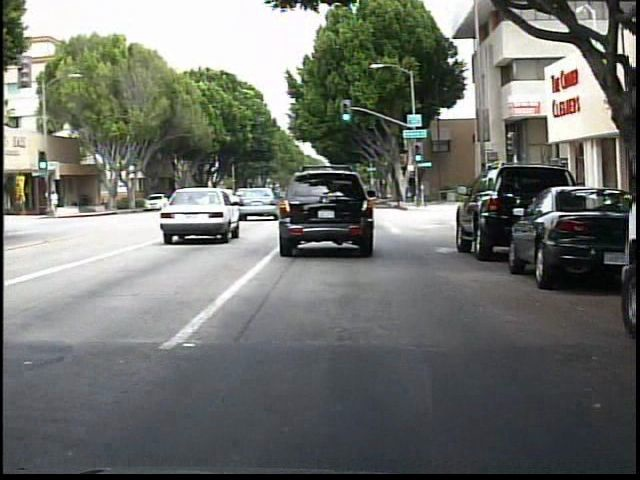person: (53, 188, 64, 217)
